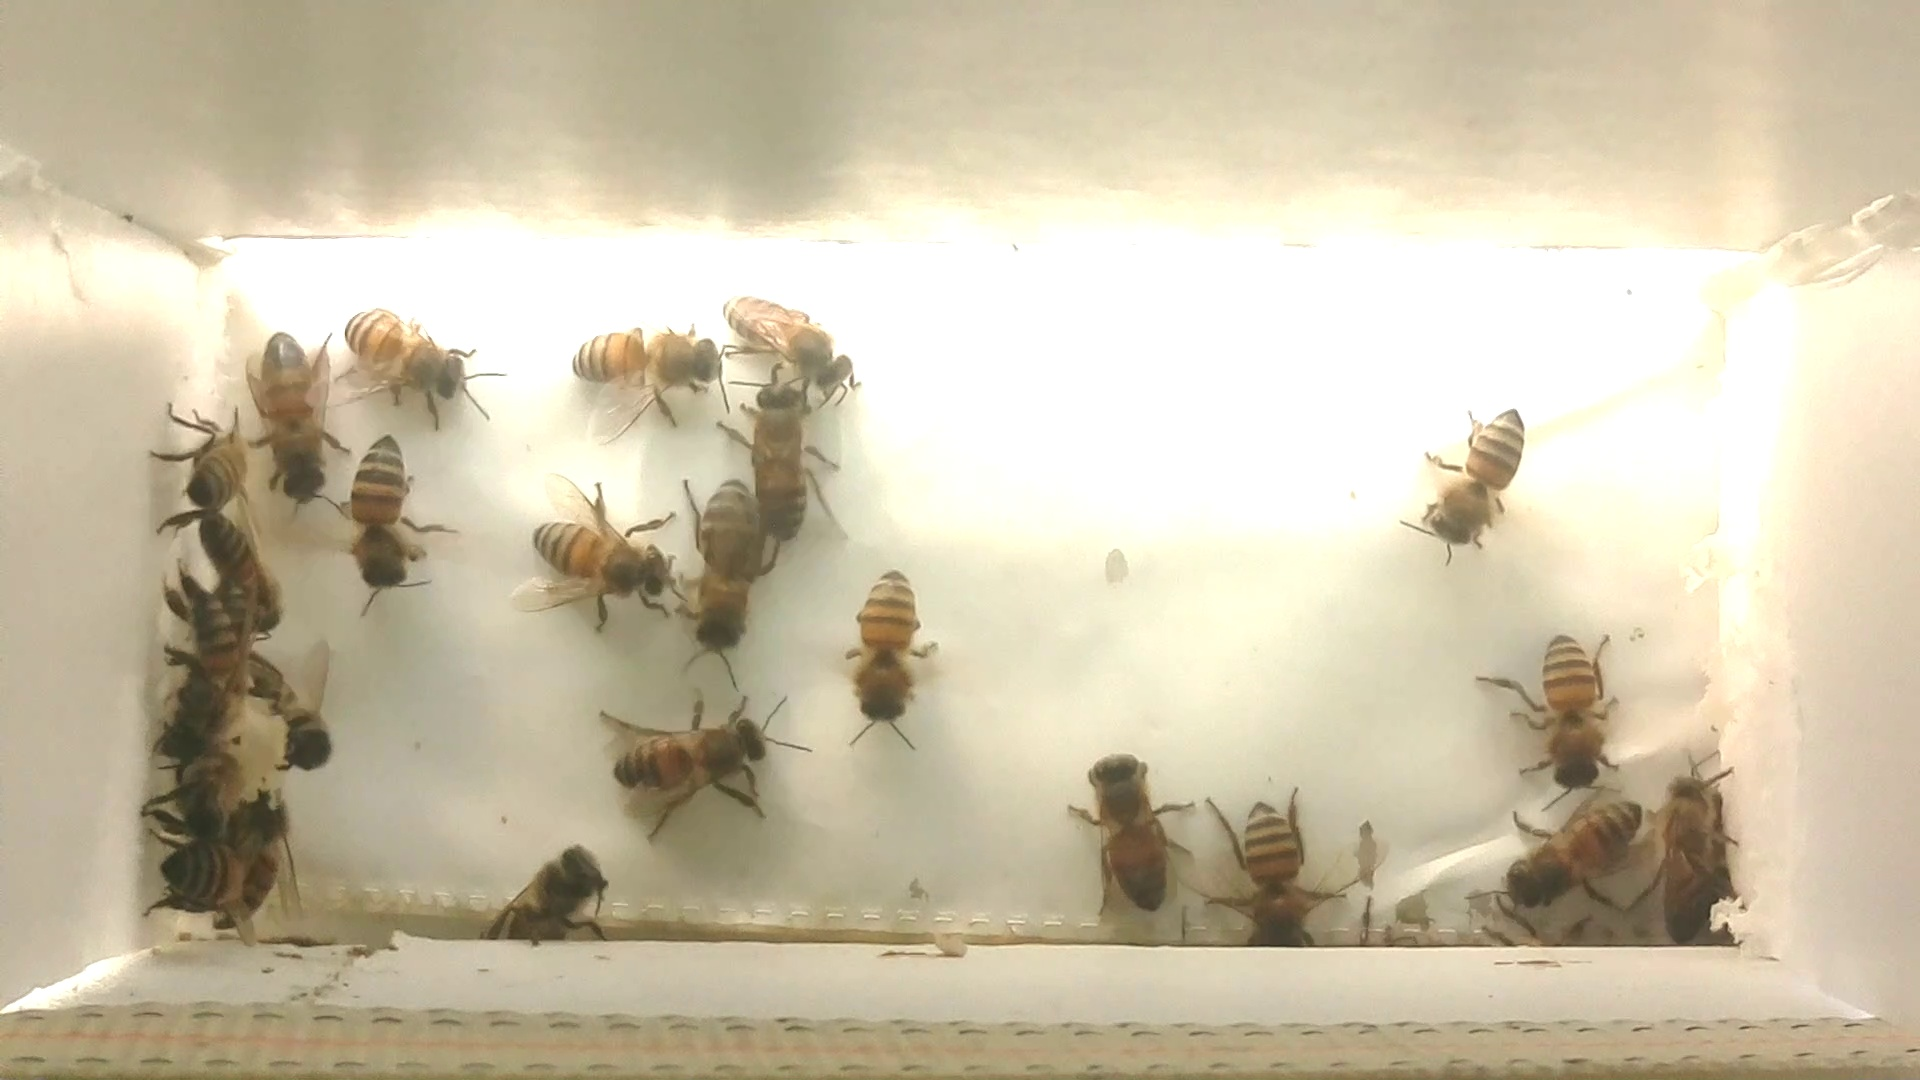bee: (568, 686, 820, 840), (1050, 733, 1211, 934), (1389, 375, 1551, 570), (508, 464, 678, 644), (1476, 618, 1640, 803), (819, 543, 957, 758), (1193, 779, 1356, 955), (323, 286, 510, 431), (715, 357, 855, 549), (545, 310, 745, 443), (1484, 779, 1658, 931), (647, 465, 770, 680), (319, 418, 454, 611), (228, 323, 356, 525), (133, 585, 265, 781), (711, 270, 889, 410), (476, 819, 636, 959), (158, 510, 301, 647), (1648, 756, 1745, 955), (136, 389, 258, 529), (123, 800, 258, 924), (248, 654, 351, 785)
